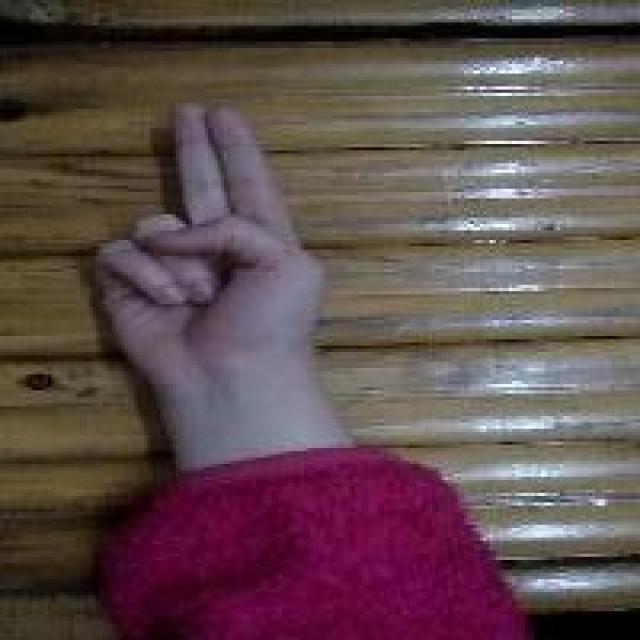U: (88, 93, 334, 365)
